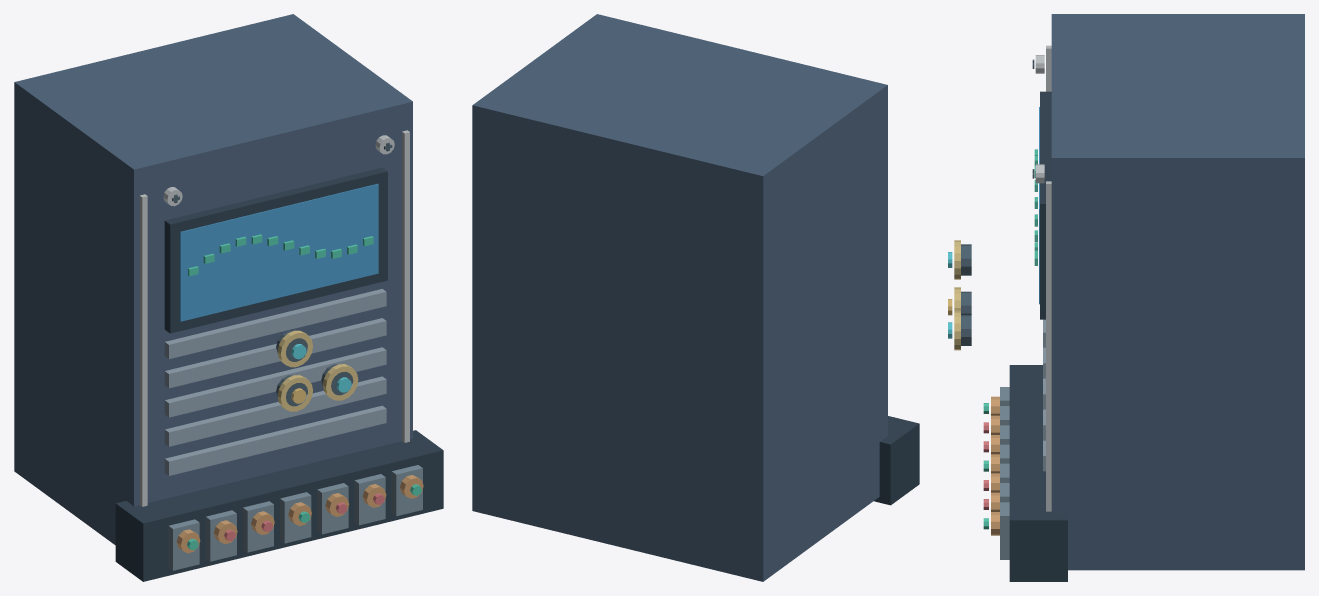
File: 45_L83_BatteryPrechargeResistorModule.glb
The picture shows the model from 3 angles, left to right: view 1: azimuth 30°, elevation 25°; view 2: azimuth 150°, elevation 25°; view 3: azimuth 270°, elevation 25°; orthographic projection. The views are drawn at different scales.
Visible parts, largest first — view 1: BatteryPrechargeResistorModule_Node_0000, BatteryPrechargeResistorModule_Node_0008, BatteryPrechargeResistorModule_Node_0046, BatteryPrechargeResistorModule_Node_0007, BatteryPrechargeResistorModule_Node_0025, BatteryPrechargeResistorModule_Node_0021, BatteryPrechargeResistorModule_Node_0024, BatteryPrechargeResistorModule_Node_0023, BatteryPrechargeResistorModule_Node_0022, BatteryPrechargeResistorModule_Node_0005, BatteryPrechargeResistorModule_Node_0006, BatteryPrechargeResistorModule_Node_0050 (+9 smaller); view 2: BatteryPrechargeResistorModule_Node_0000, BatteryPrechargeResistorModule_Node_0046; view 3: BatteryPrechargeResistorModule_Node_0000, BatteryPrechargeResistorModule_Node_0046, BatteryPrechargeResistorModule_Node_0006, BatteryPrechargeResistorModule_Node_0007, BatteryPrechargeResistorModule_Node_0065.
Part boxes in pixels (x1=…): BatteryPrechargeResistorModule_Node_0000: x1=14, y1=14, x2=412, y2=545; BatteryPrechargeResistorModule_Node_0008: x1=180, y1=183, x2=378, y2=321; BatteryPrechargeResistorModule_Node_0046: x1=115, y1=430, x2=443, y2=581; BatteryPrechargeResistorModule_Node_0007: x1=164, y1=167, x2=387, y2=333; BatteryPrechargeResistorModule_Node_0025: x1=164, y1=289, x2=386, y2=358; BatteryPrechargeResistorModule_Node_0021: x1=164, y1=405, x2=386, y2=475; BatteryPrechargeResistorModule_Node_0024: x1=164, y1=318, x2=386, y2=388; BatteryPrechargeResistorModule_Node_0023: x1=164, y1=347, x2=386, y2=417; BatteryPrechargeResistorModule_Node_0022: x1=164, y1=376, x2=386, y2=446; BatteryPrechargeResistorModule_Node_0005: x1=139, y1=194, x2=147, y2=506; BatteryPrechargeResistorModule_Node_0006: x1=402, y1=130, x2=409, y2=442; BatteryPrechargeResistorModule_Node_0050: x1=205, y1=510, x2=236, y2=561; BatteryPrechargeResistorModule_Node_0000: x1=472, y1=14, x2=887, y2=581; BatteryPrechargeResistorModule_Node_0046: x1=874, y1=416, x2=919, y2=505; BatteryPrechargeResistorModule_Node_0000: x1=1051, y1=14, x2=1304, y2=570; BatteryPrechargeResistorModule_Node_0046: x1=1009, y1=365, x2=1067, y2=581; BatteryPrechargeResistorModule_Node_0006: x1=1046, y1=181, x2=1051, y2=511; BatteryPrechargeResistorModule_Node_0007: x1=1040, y1=91, x2=1051, y2=319; BatteryPrechargeResistorModule_Node_0065: x1=1000, y1=502, x2=1009, y2=559.
Size of the model in its own units: 1.13 by 1.42 by 1.1.
